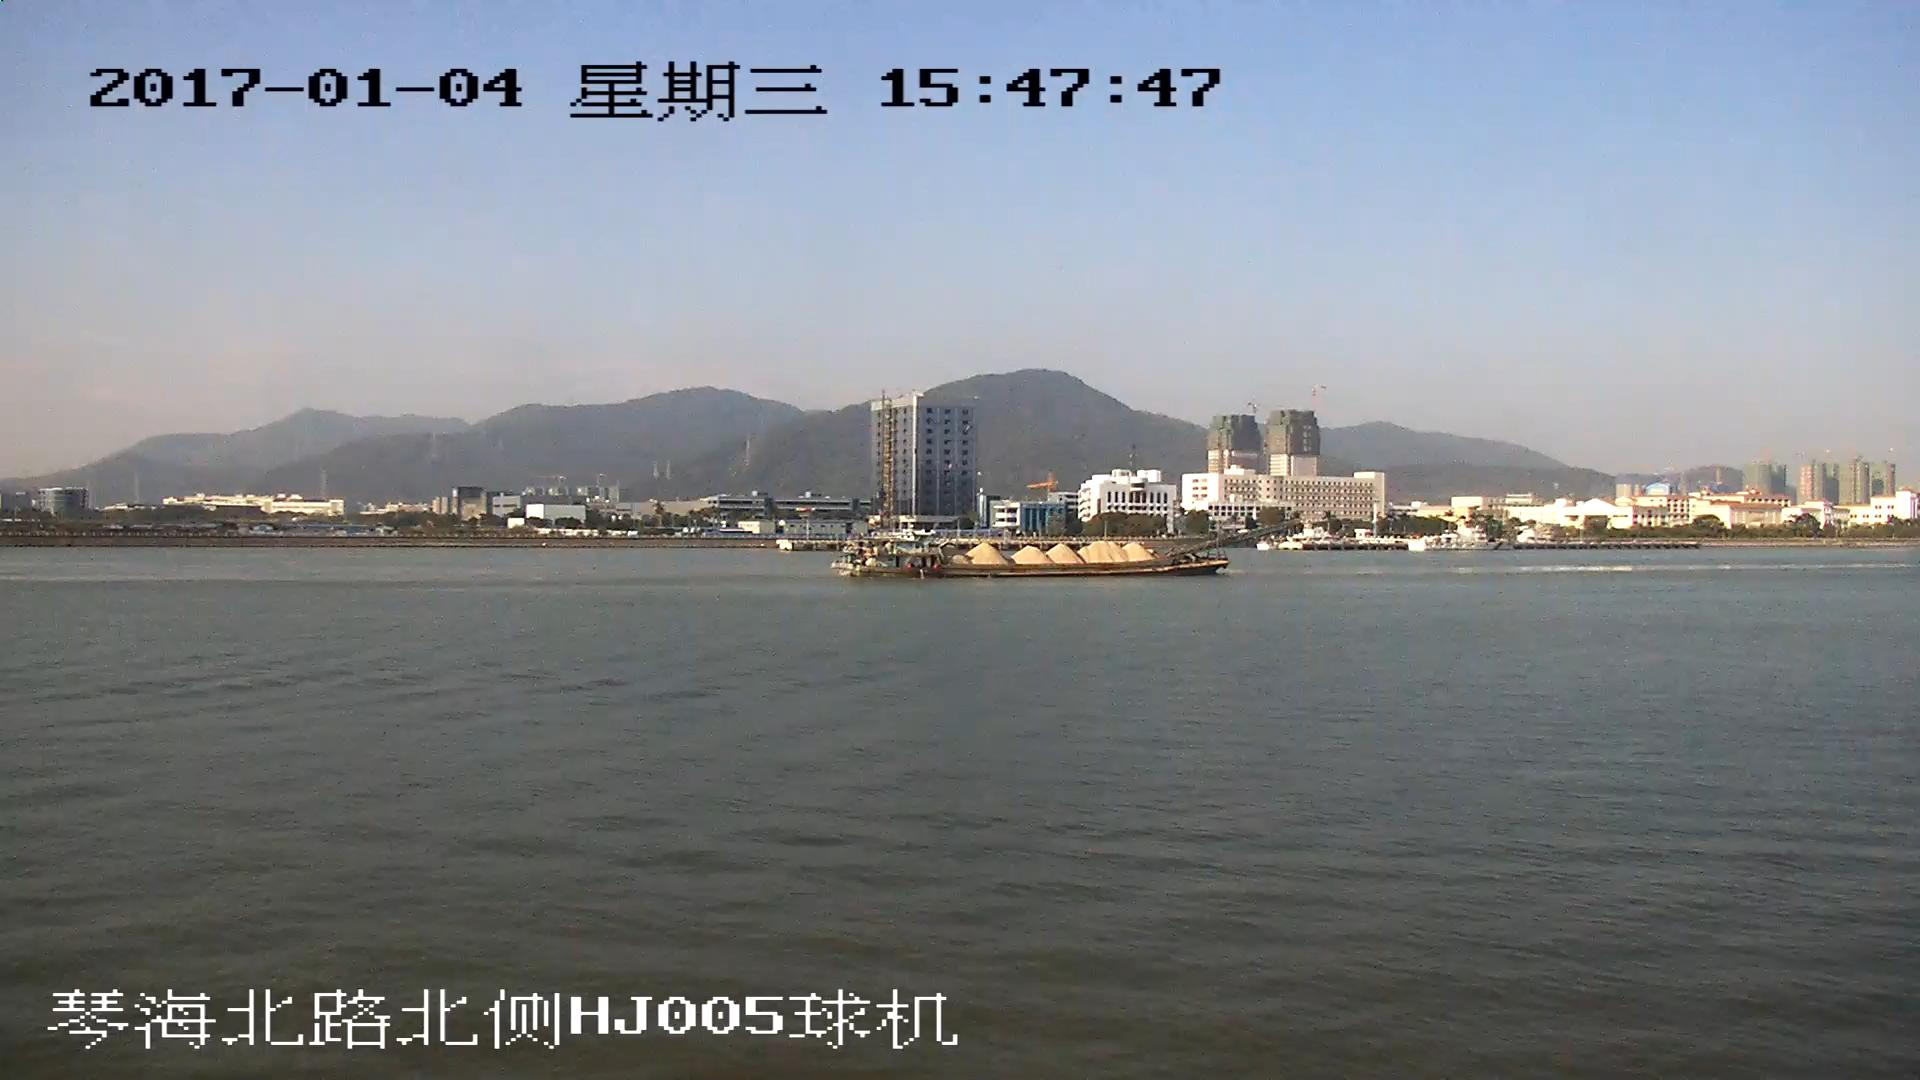ore carrier: (836, 520, 1295, 581)
